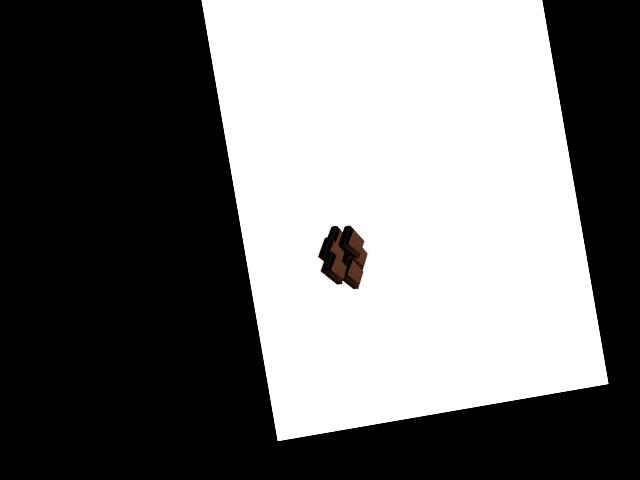chocolate: (315, 219, 374, 293)
